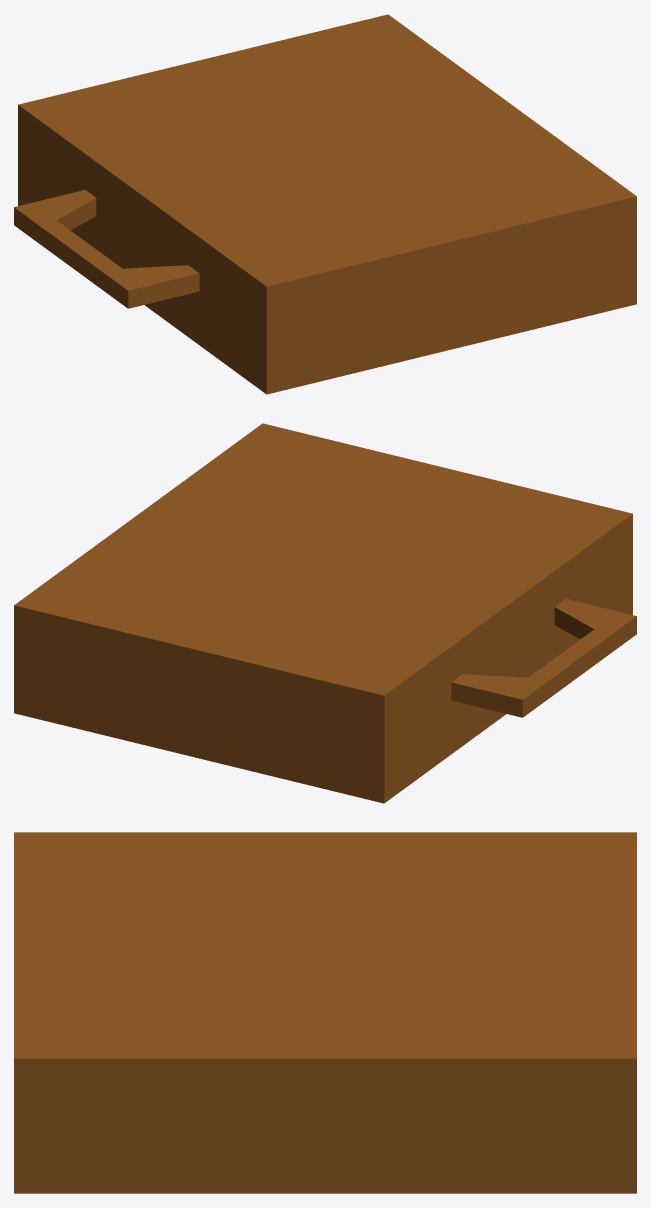
Rendered from LuggageB.fbx.
3 views of the same model, one above another, from view 1: azimuth 30°, elevation 25°; view 2: azimuth 150°, elevation 25°; view 3: azimuth 270°, elevation 25° (orthographic). The views are drawn at different scales.
Visible parts, largest first — view 1: LuggageBTop, LuggageB; view 2: LuggageBTop, LuggageB; view 3: LuggageBTop, LuggageB.
Part boxes in pixels (x1,y1,x2,y2): LuggageBTop: (14,14,636,340); LuggageB: (18,159,636,394); LuggageBTop: (14,423,636,749); LuggageB: (14,568,632,803); LuggageBTop: (14,832,636,1125); LuggageB: (14,1126,636,1193).
Bounding box in the file's own units: 33.2 × 7.75 × 32.39.
1 material, 1 textured.
